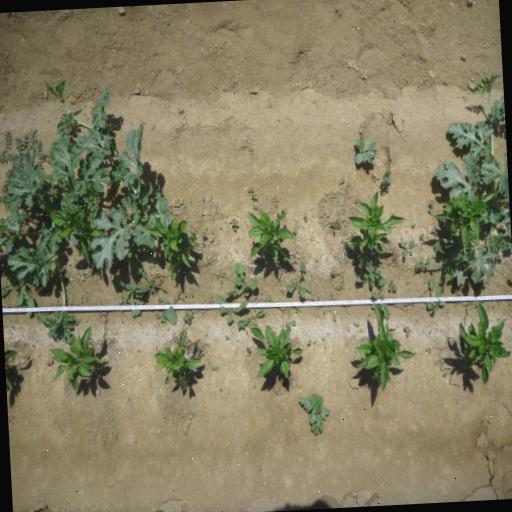plant: (350, 302, 417, 388), (454, 298, 512, 391), (50, 324, 108, 395), (345, 190, 406, 256), (154, 326, 201, 396), (248, 324, 305, 381), (433, 193, 489, 246), (244, 208, 294, 266), (155, 219, 197, 283), (49, 207, 91, 260)
weed: (0, 74, 173, 341), (427, 69, 511, 288), (126, 252, 179, 324), (417, 225, 454, 295), (297, 390, 333, 437), (223, 260, 260, 298), (110, 274, 140, 318), (0, 126, 37, 161), (284, 260, 313, 300), (354, 254, 388, 288), (1, 278, 37, 308), (214, 294, 248, 324), (352, 134, 380, 166), (420, 271, 436, 313), (234, 308, 266, 328), (372, 289, 391, 321), (378, 166, 394, 196), (399, 233, 416, 261), (433, 300, 447, 314), (182, 310, 194, 326), (388, 278, 399, 294), (154, 311, 166, 325), (426, 198, 436, 214), (327, 219, 342, 229), (230, 217, 240, 231), (194, 346, 204, 358), (284, 320, 298, 328), (369, 173, 379, 184), (404, 324, 410, 340), (200, 230, 208, 240), (246, 346, 252, 358), (334, 283, 343, 291), (303, 212, 309, 223), (294, 306, 302, 314), (424, 347, 432, 355), (211, 365, 220, 372), (249, 194, 259, 200), (330, 267, 336, 277), (352, 321, 360, 328), (292, 227, 298, 236), (419, 233, 425, 242), (306, 340, 312, 348), (442, 371, 448, 378), (412, 222, 416, 228)
